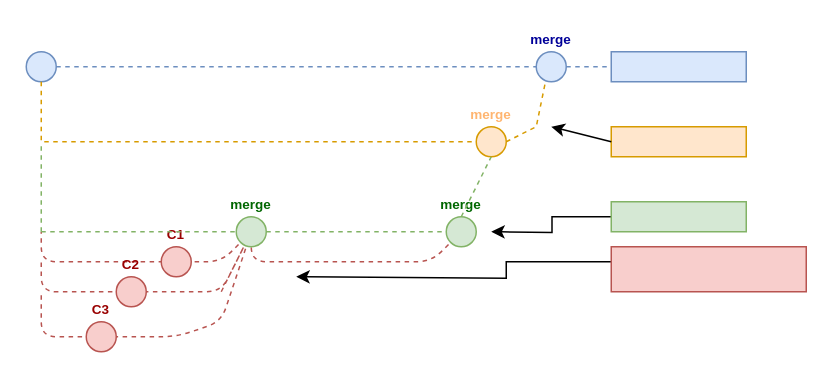
Image size: 833x378. Some labels were removed from this diagram. The centre of each missing label's shape, as x and y in pixels:
"develop" goes at (x=678, y=141).
"epic" goes at (x=678, y=216).
"feature/#issue-name_issue" goes at (x=708, y=268).
"master" goes at (x=678, y=66).
